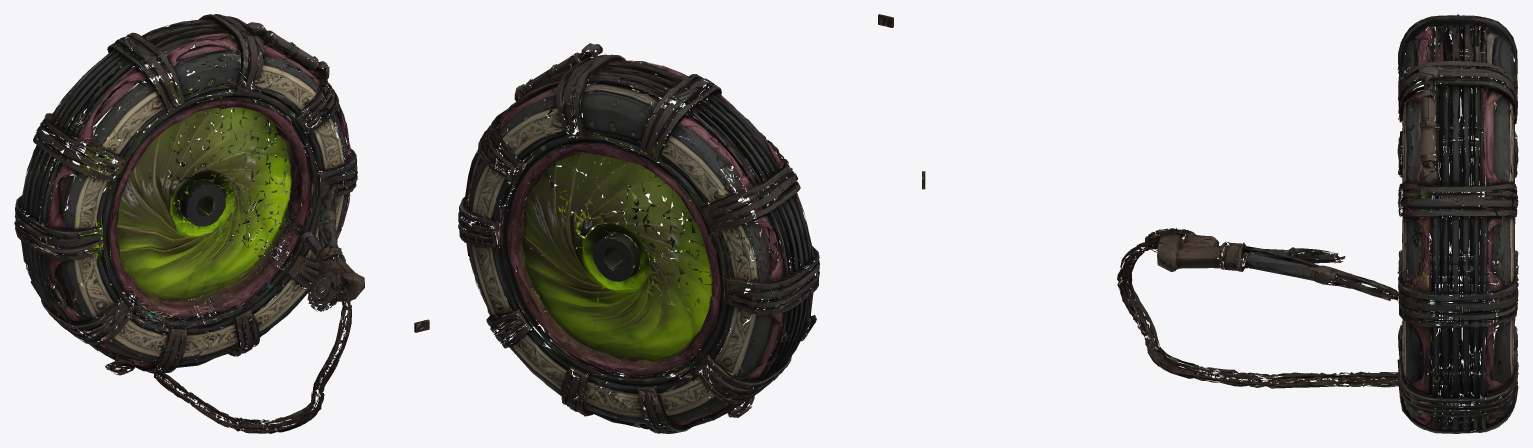
File: tallow_turned_spore_lockdown_iris.glb
3 views of the same model, side by side, from view 1: azimuth 30°, elevation 25°; view 2: azimuth 150°, elevation 25°; view 3: azimuth 270°, elevation 25° (orthographic). The views are drawn at different scales.
Visible parts, largest first — view 1: node_0; view 2: node_0; view 3: node_0.
Part boxes in pixels (bbox=[...]): node_0: bbox=[14, 14, 364, 433]; node_0: bbox=[458, 43, 819, 433]; node_0: bbox=[1117, 14, 1518, 433].
Size of the model in its own units: 0.9143 by 0.9089 by 1.31.
1 material, 1 textured.
